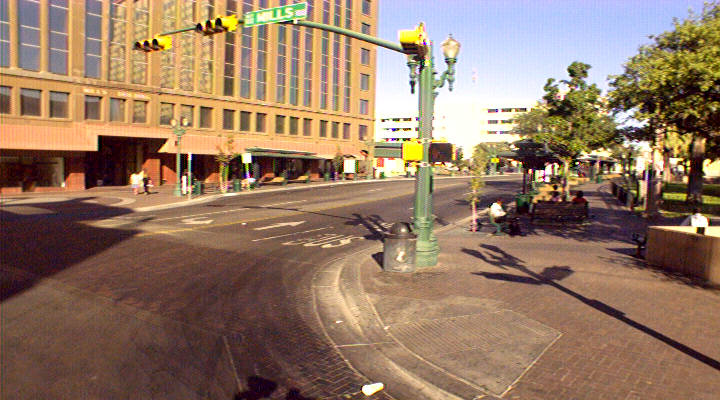Ramp: (326, 289, 565, 400)
